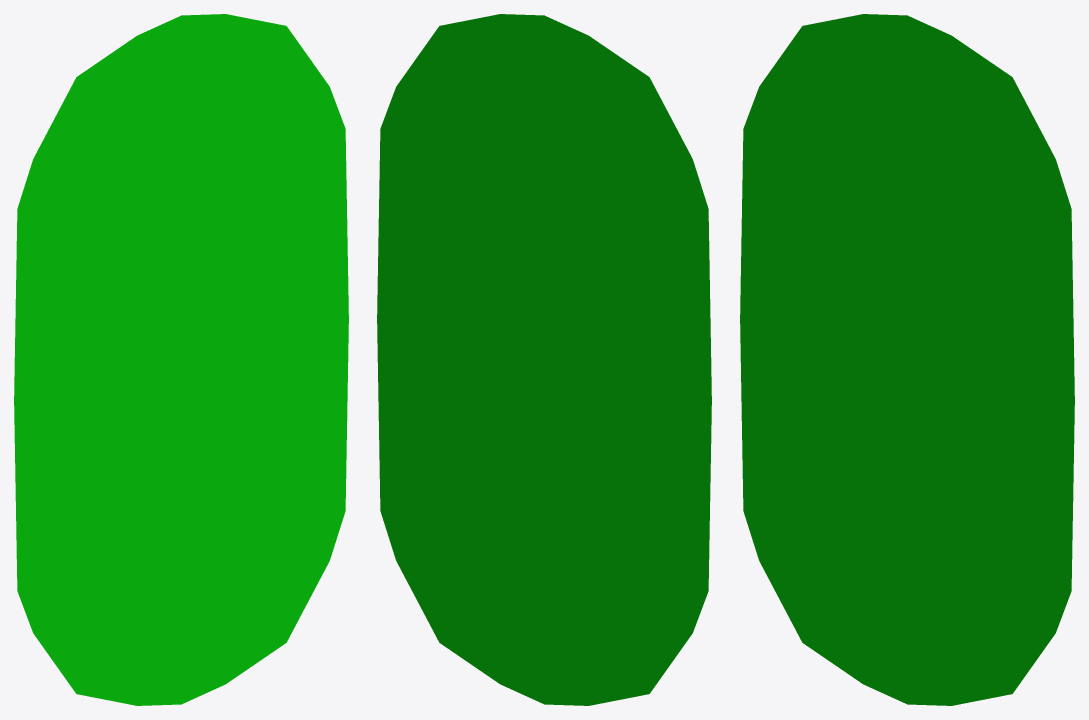
The model's file is oval_03.glb.
3 renders of one model, left to right at view 1: azimuth 30°, elevation 25°; view 2: azimuth 150°, elevation 25°; view 3: azimuth 330°, elevation 25°, orthographic.
Parts seen in each view (by area): view 1: longboat_111-mesh; view 2: longboat_111-mesh; view 3: longboat_111-mesh.
Part boxes in pixels (x1,y1,x2,y2): longboat_111-mesh: [14, 14, 348, 705]; longboat_111-mesh: [377, 14, 711, 705]; longboat_111-mesh: [740, 14, 1074, 705].
Bounding box in the file's own units: 1.33 × 2.62 × 0.
